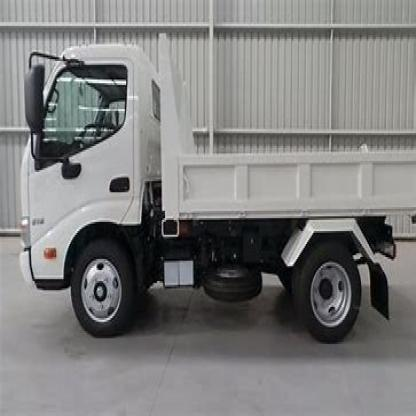dump_truck: (20, 26, 412, 351)
